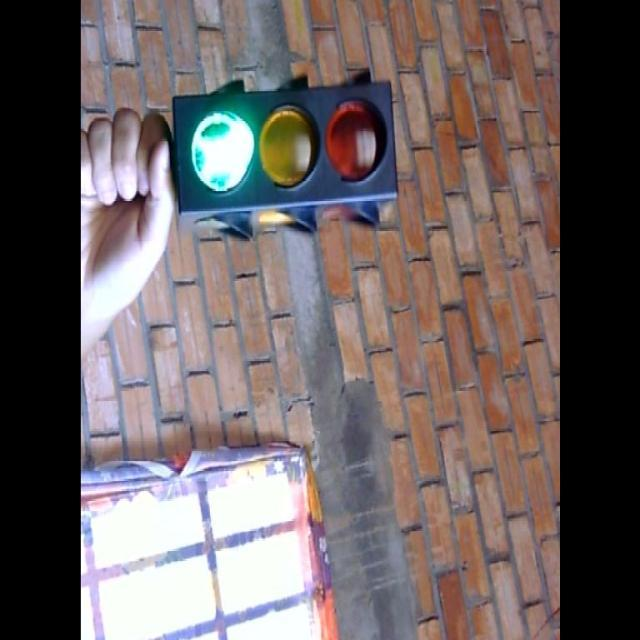green light: (184, 90, 257, 204)
